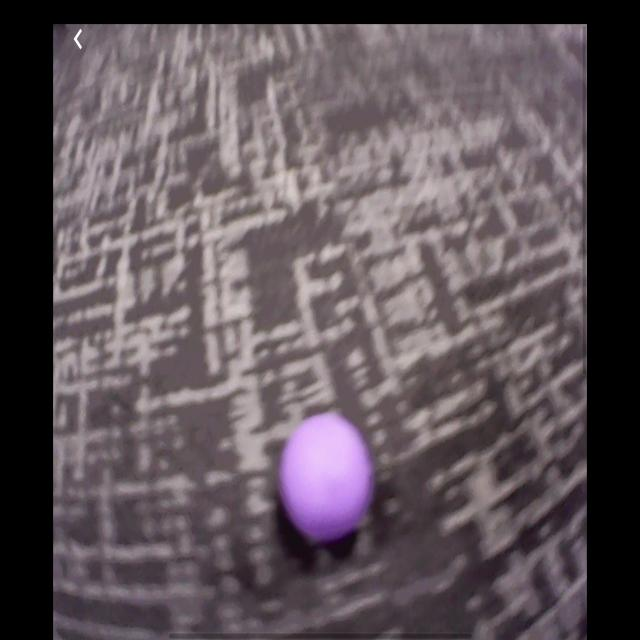ball: (282, 414, 373, 544)
